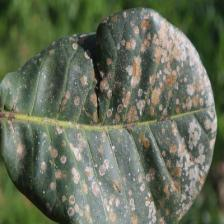red rust: (0, 7, 218, 223)
